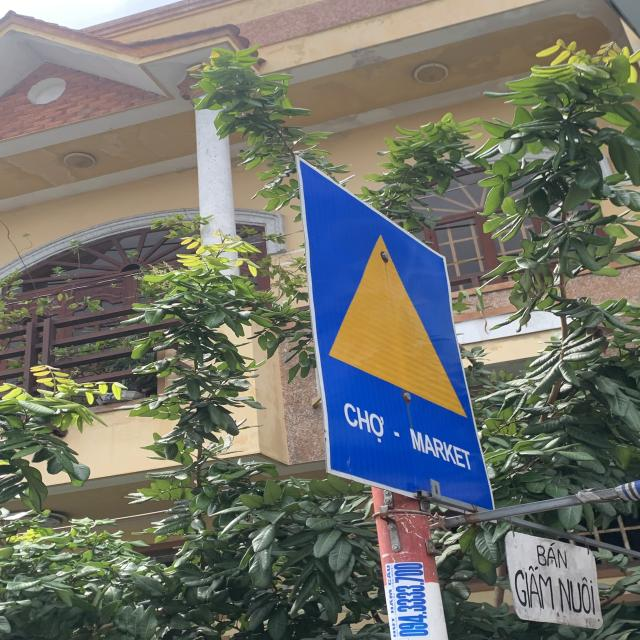Cho_Quay_Xe: (298, 160, 502, 511)
